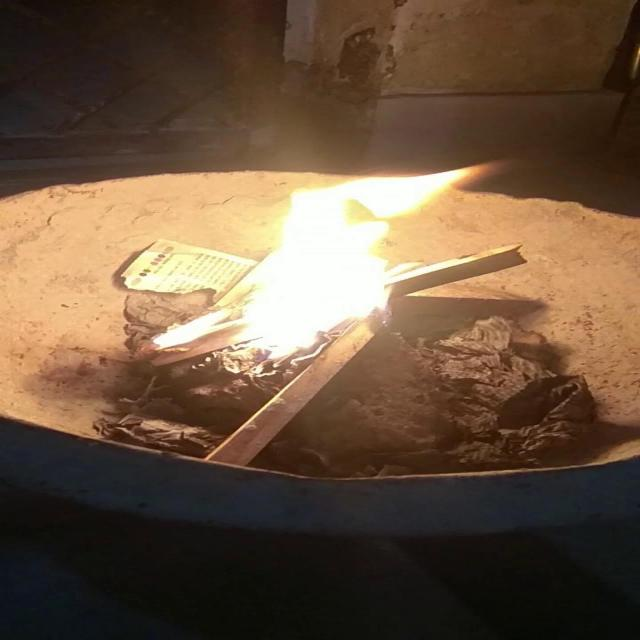fire: (129, 164, 500, 368)
